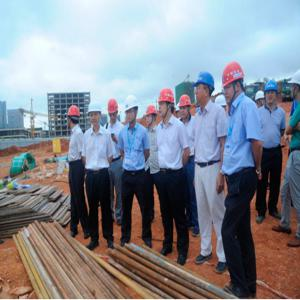blue: (195, 72, 216, 108), (266, 79, 279, 107)
red: (222, 62, 247, 105), (158, 89, 175, 119), (107, 99, 120, 123), (180, 94, 192, 120), (146, 105, 158, 128), (68, 107, 81, 127)
white: (125, 95, 140, 126), (89, 101, 103, 129), (290, 70, 300, 102), (256, 91, 267, 109)
